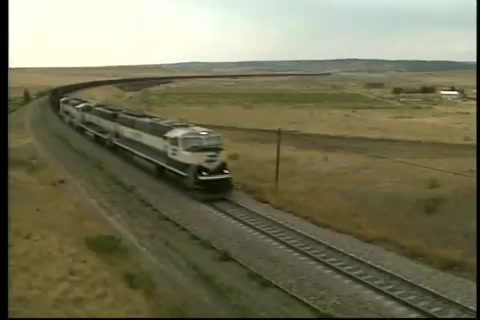train: (59, 95, 236, 200)
